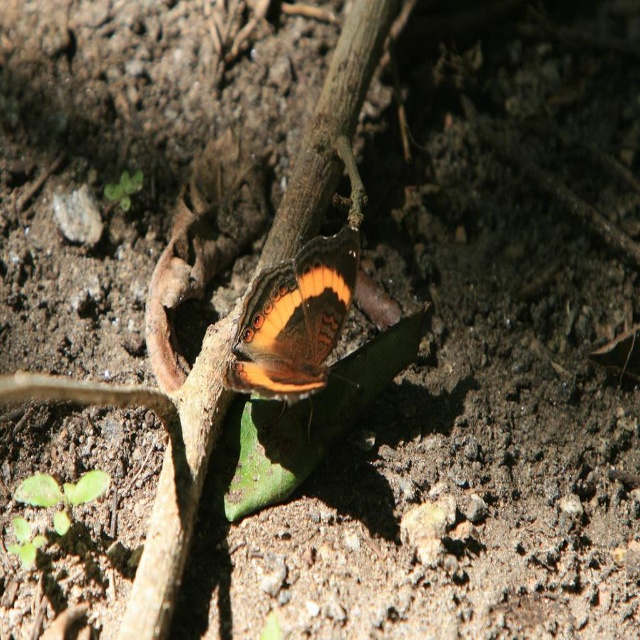Butterfly: (212, 210, 381, 414)
